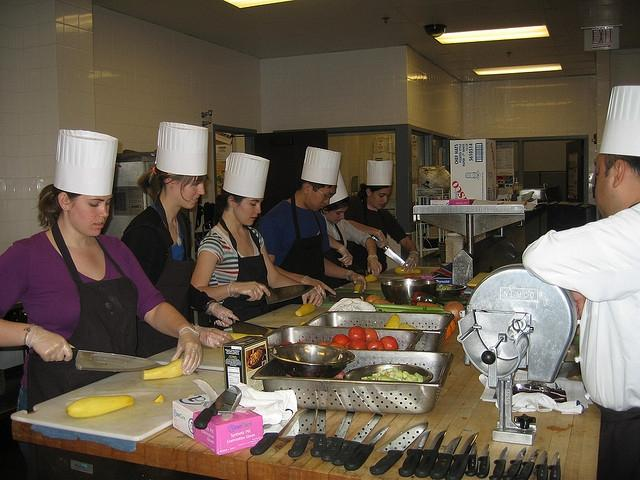tomato: (344, 338, 368, 350), (348, 326, 366, 342), (380, 336, 399, 351), (364, 328, 379, 343), (332, 334, 349, 347), (366, 340, 384, 349), (316, 341, 330, 346), (280, 341, 293, 345), (295, 342, 307, 344)
